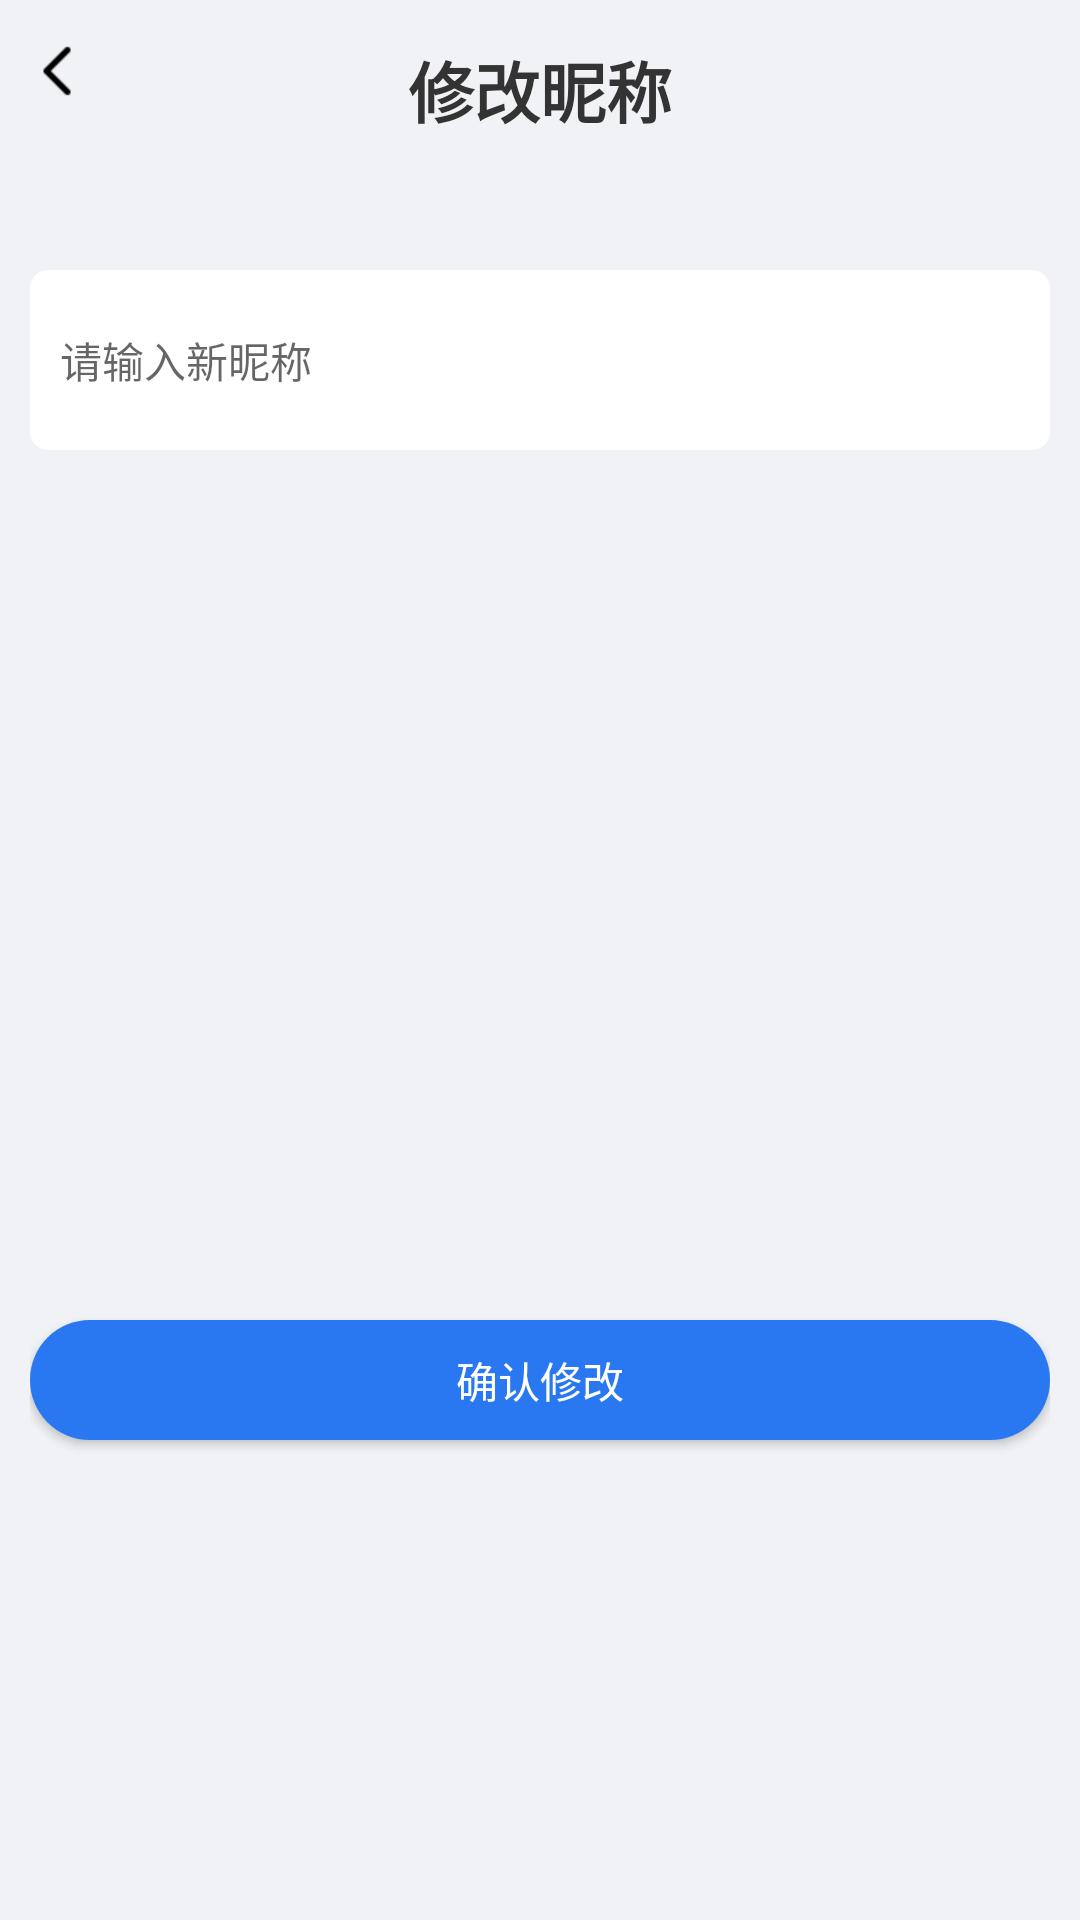

Screen size 1080 x 1920. Icon name, then its center in pixels as [x,y]:
back: [57,71]
